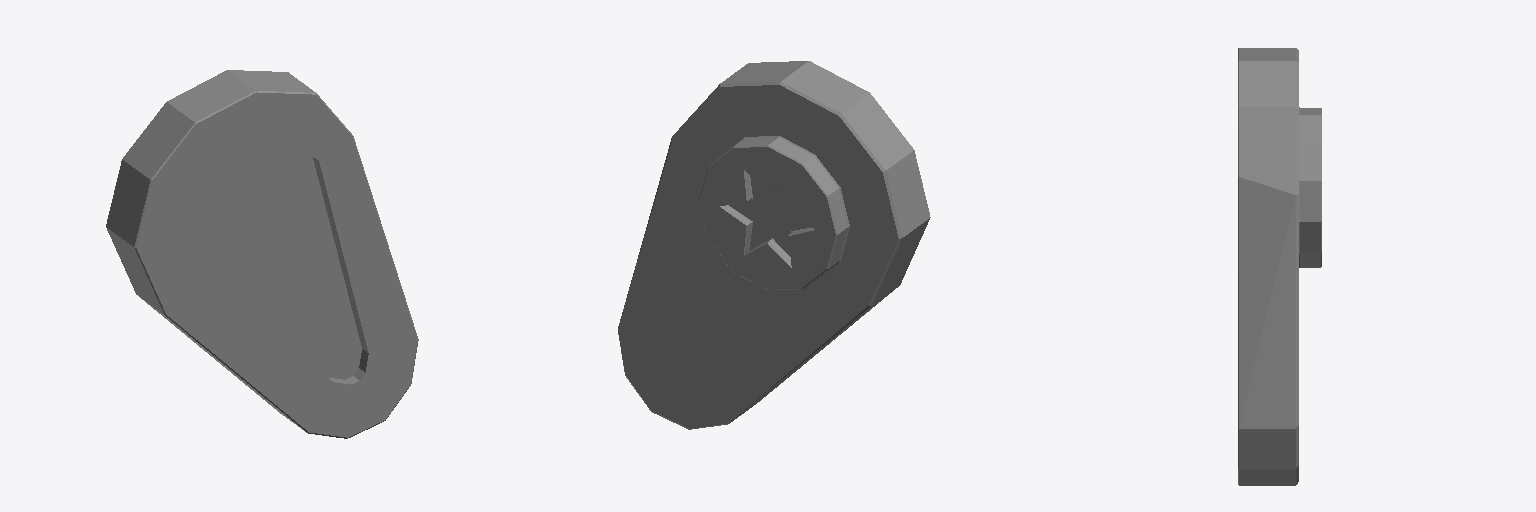
File: tuerca_left_front.obj
3 views of the same model, side by side, from view 1: azimuth 30°, elevation 25°; view 2: azimuth 150°, elevation 25°; view 3: azimuth 270°, elevation 25° (orthographic).
Parts seen in each view (by area): view 1: tuerca_left_front; view 2: tuerca_left_front; view 3: tuerca_left_front.
Part boxes in pixels (left/top/right/bottom): tuerca_left_front: left=106, top=70, right=418, bottom=438; tuerca_left_front: left=618, top=61, right=930, bottom=429; tuerca_left_front: left=1238, top=48, right=1321, bottom=485.
Bounding box in the file's own units: 3.97 × 4.94 × 1.02.